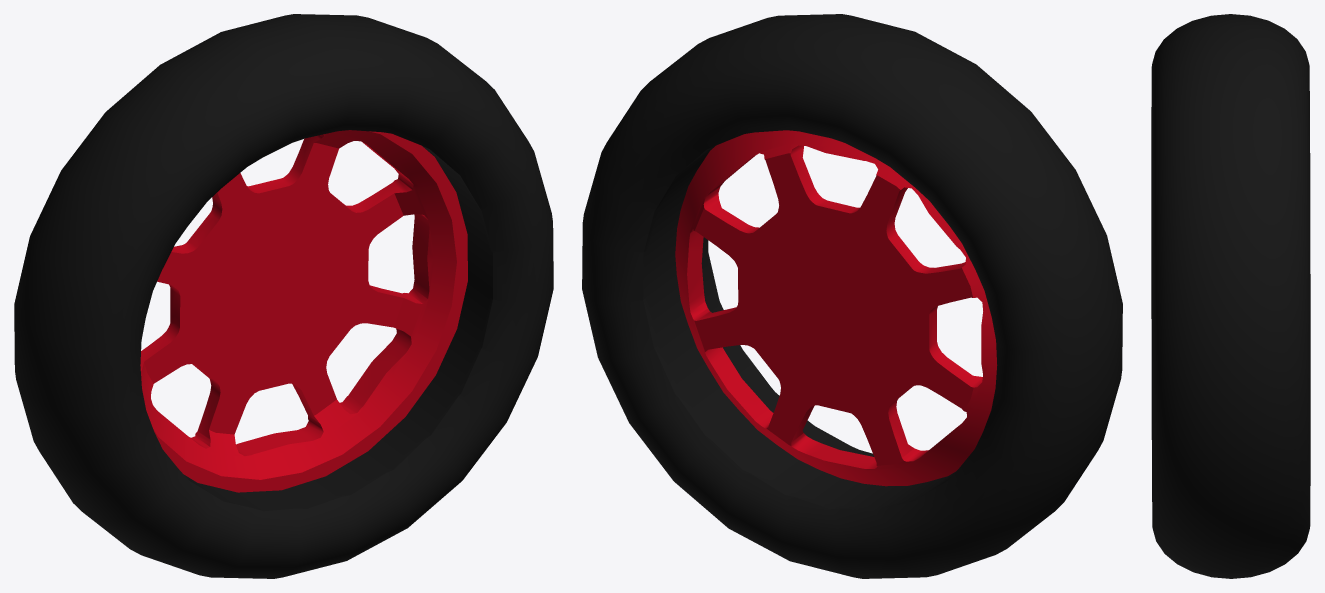
Rendered from leftBackWheel2.DAE.
3 views of the same model, side by side, from view 1: azimuth 30°, elevation 25°; view 2: azimuth 150°, elevation 25°; view 3: azimuth 270°, elevation 25° (orthographic). The views are drawn at different scales.
Parts seen in each view (by area): view 1: Torus01, Cylinder16; view 2: Torus01, Cylinder16; view 3: Torus01.
Part boxes in pixels (<box>): Torus01: <box>14,14,553,578</box>; Cylinder16: <box>140,130,467,492</box>; Torus01: <box>582,14,1122,578</box>; Cylinder16: <box>675,130,997,486</box>; Torus01: <box>1151,14,1310,578</box>.
Bounding box in the file's own units: 23.87 × 6.77 × 23.87.
